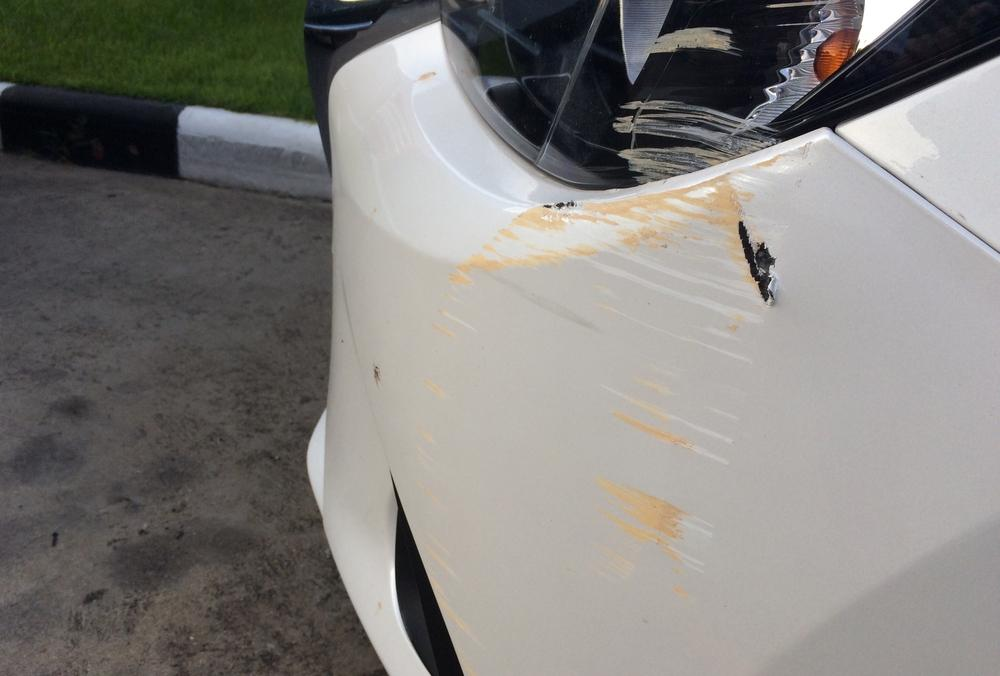scratch: (411, 137, 821, 676)
